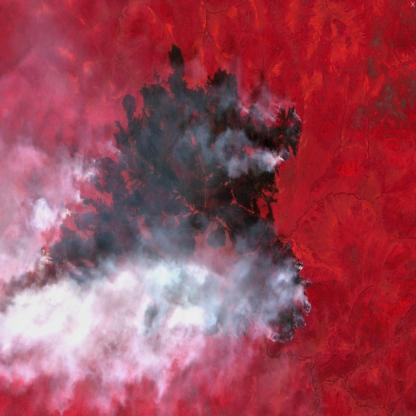fire: (45, 100, 314, 348)
